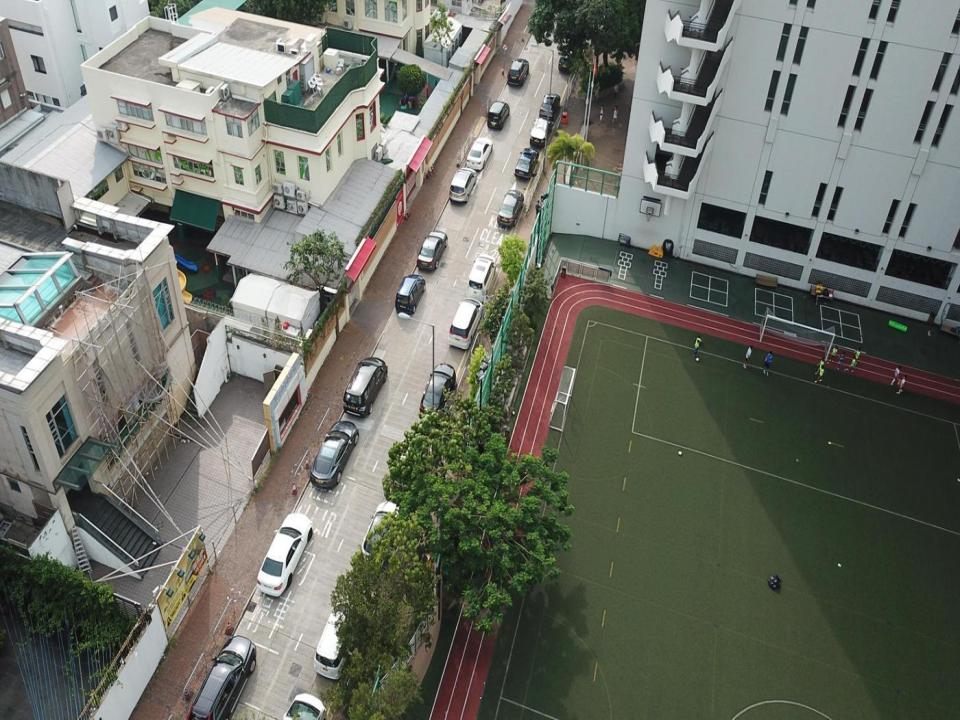car: (256, 512, 314, 596), (312, 420, 360, 491), (420, 362, 458, 423), (361, 501, 398, 557), (448, 297, 484, 349), (466, 254, 496, 301), (417, 230, 448, 272), (396, 275, 426, 314), (449, 166, 478, 204), (497, 189, 523, 228), (466, 137, 493, 171), (514, 146, 537, 181), (488, 100, 510, 131), (507, 58, 530, 87), (530, 116, 548, 148), (540, 94, 560, 122)
van: (184, 636, 257, 719), (314, 600, 356, 680), (343, 355, 387, 416), (280, 693, 326, 719)
